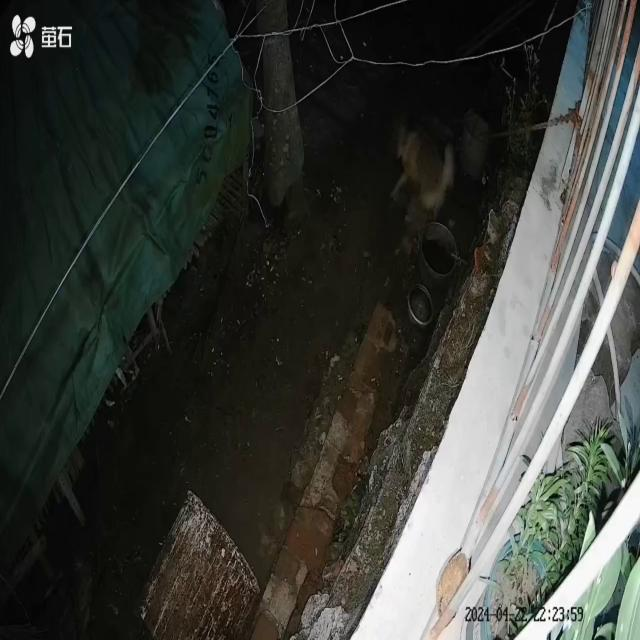dog: (390, 116, 457, 228)
